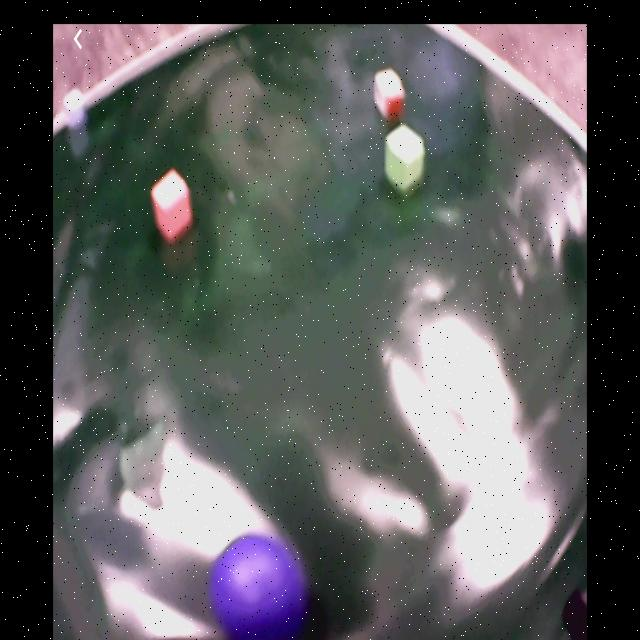ball: (214, 534, 305, 639)
